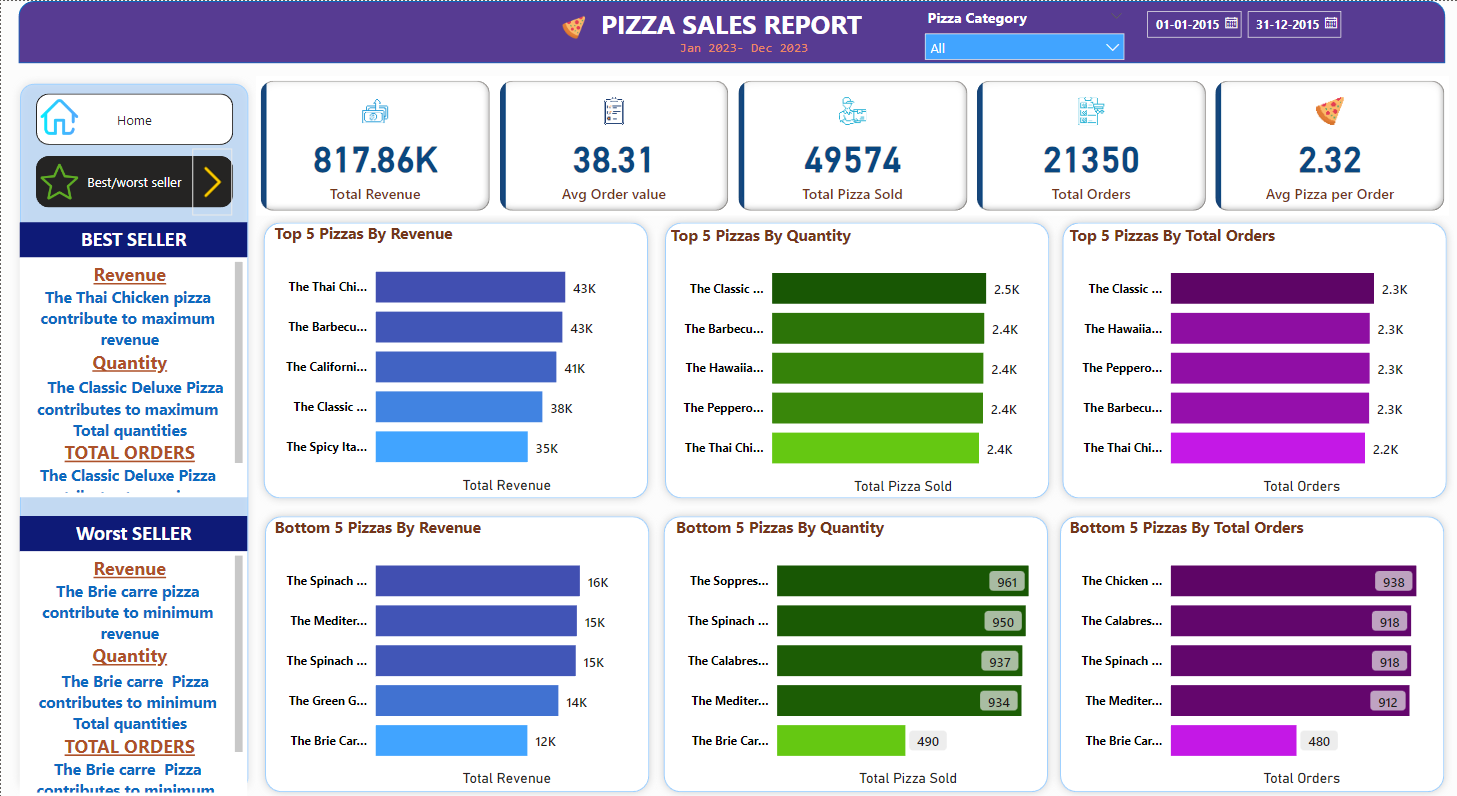

What the dashboard file says about the page in this screenshot:
{"tool":"powerbi","page":{"name":"Best/worst seller","canvas":[1500,820],"ordinal":1},"visuals":[{"type":"shape","box":[11.1,76.6,250.6,742],"z":0},{"type":"cardVisual","fields":{"Data":["pizza_sales.Total Revenue","pizza_sales.Avg Order value","pizza_sales.Total Pizza Sold","pizza_sales.Total Orders","pizza_sales.Avg Pizza per Order"]},"box":[261.7,76.6,1225.1,143.4],"z":1000},{"type":"shape","box":[18.1,0,1464.6,64],"z":2000},{"type":"textbox","box":[604.2,0,291,50.1],"z":3000},{"type":"textbox","box":[685,33.4,154.5,30.6],"z":4000},{"type":"image","box":[570.8,0,33.4,54.3],"z":5000},{"type":"shape","box":[261.7,220,410,299],"z":6000},{"type":"textbox","box":[19.2,227.5,233.9,36.2],"z":16000},{"type":"textbox","box":[19.5,263.1,233.9,246.4],"z":17000},{"type":"textbox","box":[19.5,565.2,233.9,253.4],"z":18000},{"type":"textbox","box":[19.5,529,233.9,36.2],"z":19000},{"type":"slicer","fields":{"Values":["pizza_sales.pizza_category"]},"box":[938.3,1.4,225.5,62.6],"z":20000},{"type":"slicer","fields":{"Values":["pizza_sales.order_date"]},"box":[1163.9,0,218.6,64],"z":21000},{"type":"shape","box":[673.8,220,410,299],"z":21001},{"type":"shape","box":[1081.7,220,410,299],"z":21002},{"type":"shape","box":[263.1,520.7,410.7,299],"z":21003},{"type":"shape","box":[672.7,520.7,410,299],"z":21004},{"type":"shape","box":[1078.9,520.7,410,299],"z":21005},{"type":"barChart","title":"Top 5 Pizzas By Revenue","fields":{"Category":["pizza_sales.pizza_name"],"Y":["pizza_sales.Total Revenue"]},"box":[275.7,226.9,382.9,282.6],"z":21006},{"type":"barChart","title":"Bottom 5 Pizzas By Revenue","fields":{"Category":["pizza_sales.pizza_name"],"Y":["pizza_sales.Total Revenue"]},"box":[275.7,529,382.9,282.6],"z":21007},{"type":"barChart","title":"Top 5 Pizzas By Quantity","fields":{"Category":["pizza_sales.pizza_name"],"Y":["pizza_sales.Total Pizza Sold"]},"box":[682.8,228.2,382.4,282.8],"z":21008},{"type":"barChart","title":"Bottom 5 Pizzas By Quantity","fields":{"Category":["pizza_sales.pizza_name"],"Y":["pizza_sales.Total Pizza Sold"]},"box":[687.7,528.6,382.4,282.8],"z":21009},{"type":"barChart","title":"Top 5 Pizzas By Total Orders","fields":{"Category":["pizza_sales.pizza_name"],"Y":["pizza_sales.Total Orders"]},"box":[1092.6,228.2,382.4,282.8],"z":21010},{"type":"barChart","title":"Bottom 5 Pizzas By Total Orders","fields":{"Category":["pizza_sales.pizza_name"],"Y":["pizza_sales.Total Orders"]},"box":[1092.6,528.6,382.4,282.8],"z":21011},{"type":"pageNavigator","box":[35.3,94.8,202.4,53],"z":21013},{"type":"pageNavigator","box":[35.3,159.1,202.4,53],"z":21014},{"type":"image","box":[196,151,41.8,69.1],"z":21015},{"type":"image","box":[35.3,91.6,48.2,56.2],"z":21016},{"type":"image","box":[35.3,159.1,48.2,53],"z":21017}]}

Visuals, with their boxes in screenshot pixels (x1, y1, x2, y2), scaled from the page's 1500x820 canvas onto the 1457x796 screenshot:
shape: locate(11, 74, 254, 795)
cardVisual - pizza_sales.Total Revenue x pizza_sales.Avg Order value: locate(254, 74, 1444, 214)
shape: locate(18, 0, 1440, 62)
textbox: locate(587, 0, 870, 49)
textbox: locate(665, 32, 815, 62)
image: locate(554, 0, 587, 53)
shape: locate(254, 214, 652, 504)
textbox: locate(19, 221, 246, 256)
textbox: locate(19, 255, 246, 495)
textbox: locate(19, 549, 246, 795)
textbox: locate(19, 514, 246, 549)
slicer - pizza_sales.pizza_category: locate(911, 1, 1130, 62)
slicer - pizza_sales.order_date: locate(1131, 0, 1343, 62)
shape: locate(654, 214, 1053, 504)
shape: locate(1051, 214, 1449, 504)
shape: locate(256, 505, 654, 795)
shape: locate(653, 505, 1052, 795)
shape: locate(1048, 505, 1446, 795)
"Top 5 Pizzas By Revenue" barChart: locate(268, 220, 640, 495)
"Bottom 5 Pizzas By Revenue" barChart: locate(268, 514, 640, 788)
"Top 5 Pizzas By Quantity" barChart: locate(663, 222, 1035, 496)
"Bottom 5 Pizzas By Quantity" barChart: locate(668, 513, 1039, 788)
"Top 5 Pizzas By Total Orders" barChart: locate(1061, 222, 1433, 496)
"Bottom 5 Pizzas By Total Orders" barChart: locate(1061, 513, 1433, 788)
pageNavigator: locate(34, 92, 231, 143)
pageNavigator: locate(34, 154, 231, 206)
image: locate(190, 147, 231, 214)
image: locate(34, 89, 81, 143)
image: locate(34, 154, 81, 206)
